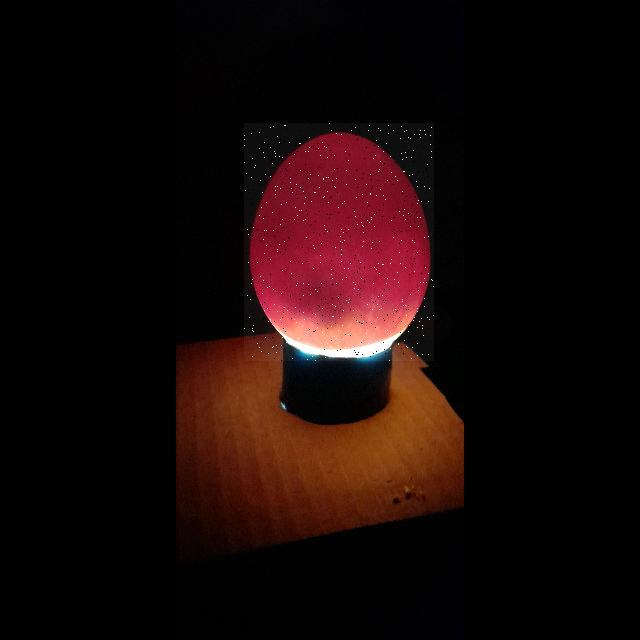Fertile: (244, 123, 434, 361)
